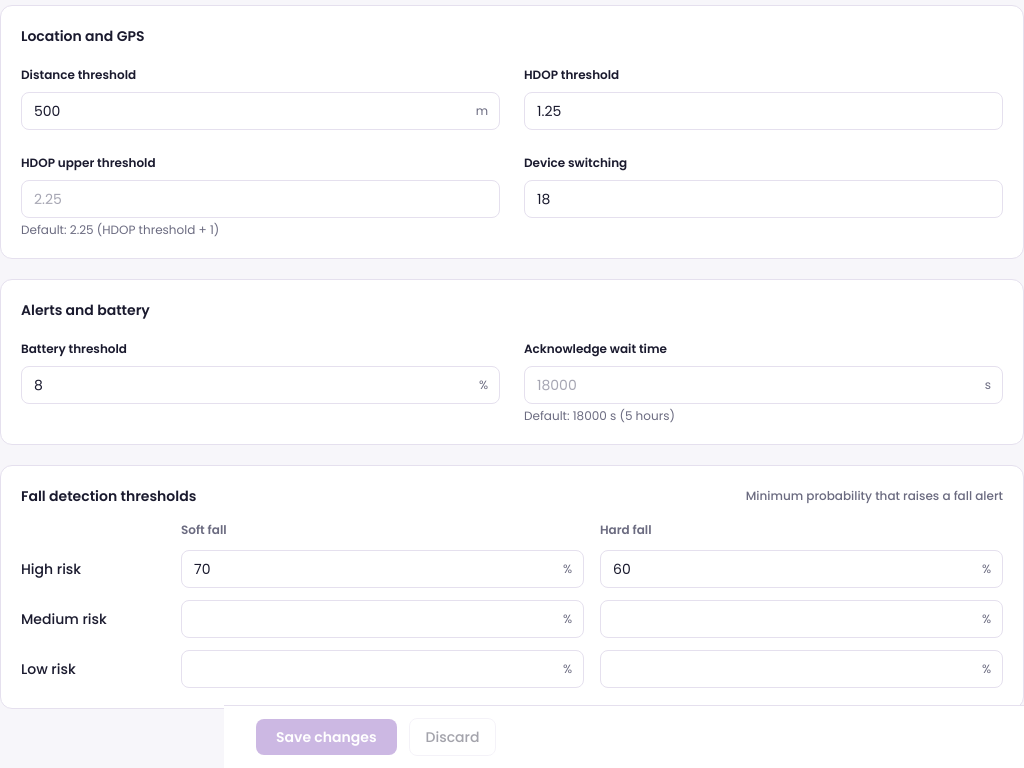
it: SiteSettingsView › shows the API's message when it refuses a value, and keeps what was typed
(page scrolled)
Replace the text in the field labelled "Battery threshold" with "150" at [260, 385], box x1=21 y1=366 x2=500 y2=404
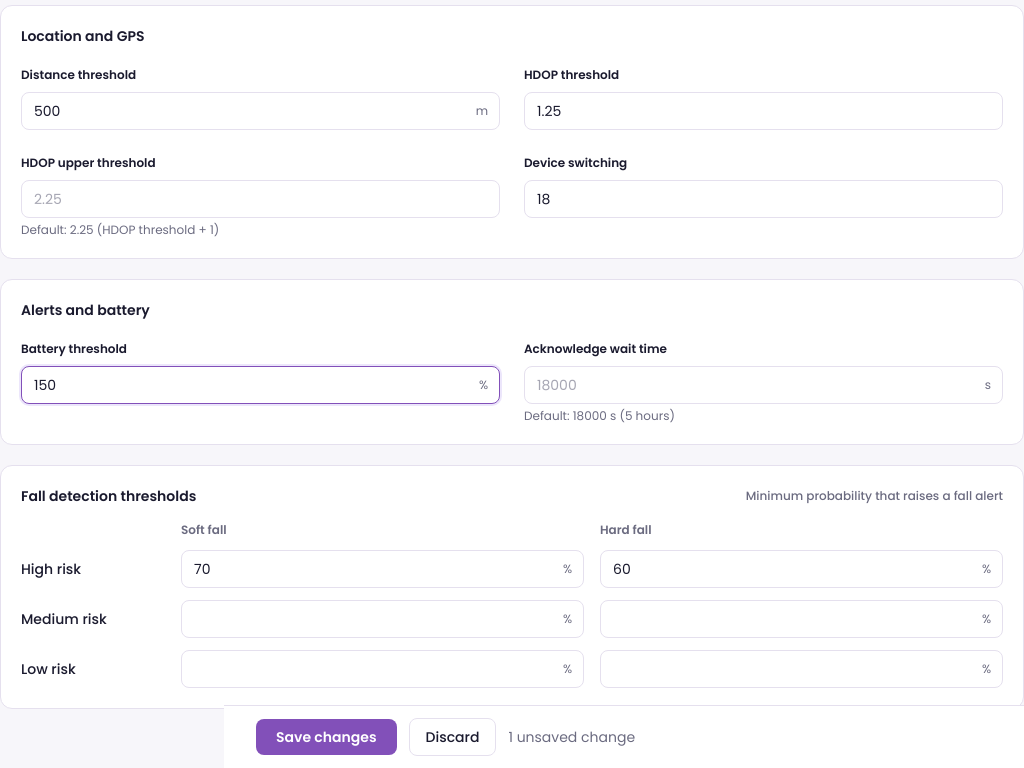
Click the button "Save changes".
click(326, 737)  # box x1=256 y1=719 x2=397 y2=755
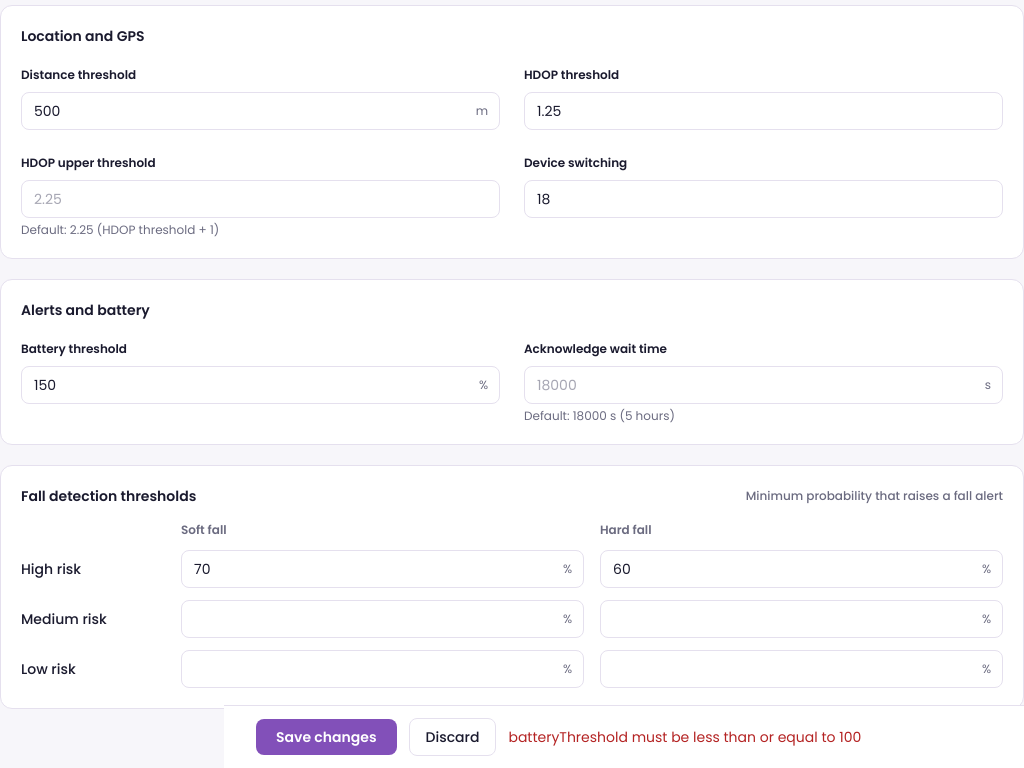
Expected: the message shows "less than or equal to 100", x1=508 y1=727 x2=861 y2=747
